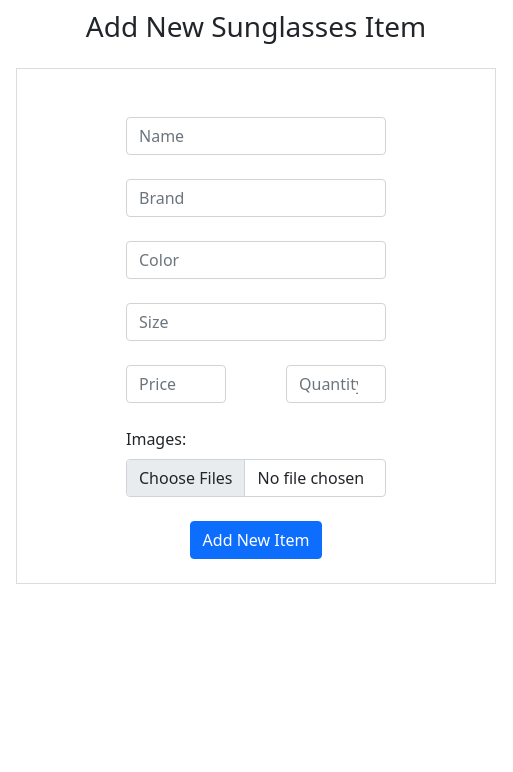
it: Testing AddItem component › Testing the component when clicking the "Add New Item" button and all the input fields are empty
clicking the "Add New Item" button
Click the button "Add New Item" at (256, 540), box [190,521,322,559]
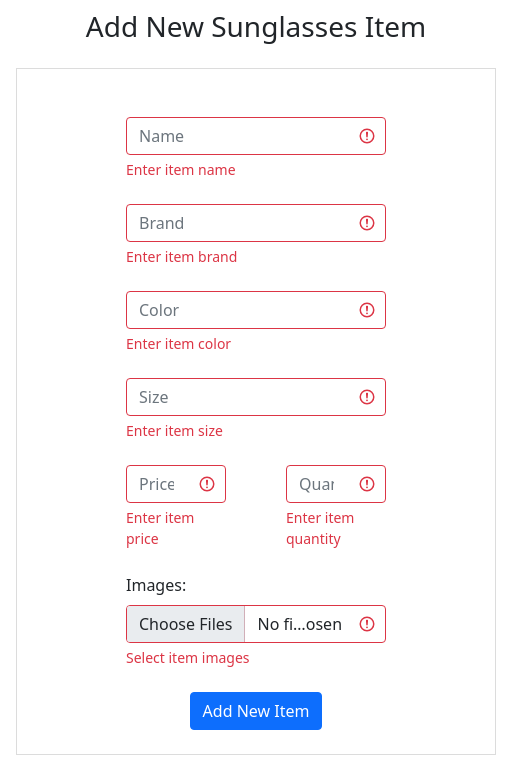
Result: the text "Enter item name" is shown at [126,160,236,179]
Result: the text "Enter item brand" is shown at [126,247,237,266]
Result: the text "Enter item color" is shown at [126,334,231,353]
